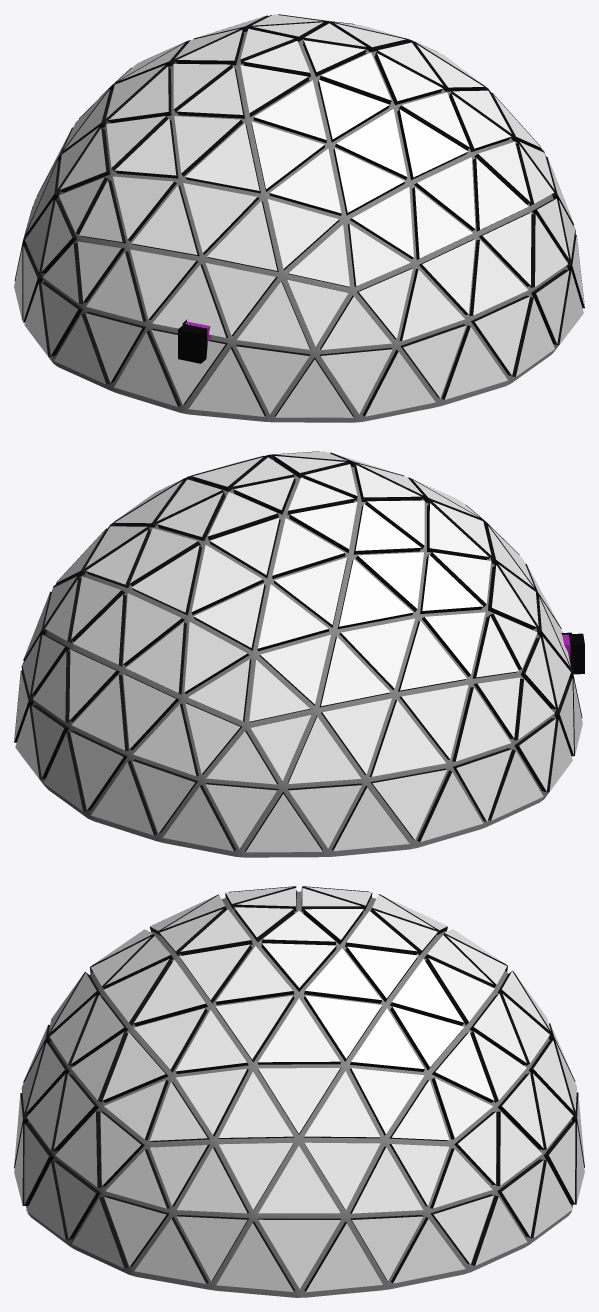
Rendered from dome alleen.fbx.
3 views of the same model, one above another, from view 1: azimuth 30°, elevation 25°; view 2: azimuth 150°, elevation 25°; view 3: azimuth 270°, elevation 25° (orthographic).
Visible parts, largest first — view 1: dome3; view 2: dome3; view 3: dome3.
Part boxes in pixels (x1=…): dome3: x1=14, y1=14, x2=584, y2=422; dome3: x1=14, y1=451, x2=584, y2=857; dome3: x1=14, y1=886, x2=584, y2=1297.
Size of the model in its own units: 13.83 by 7.13 by 13.62.
2 materials, 2 textured.
